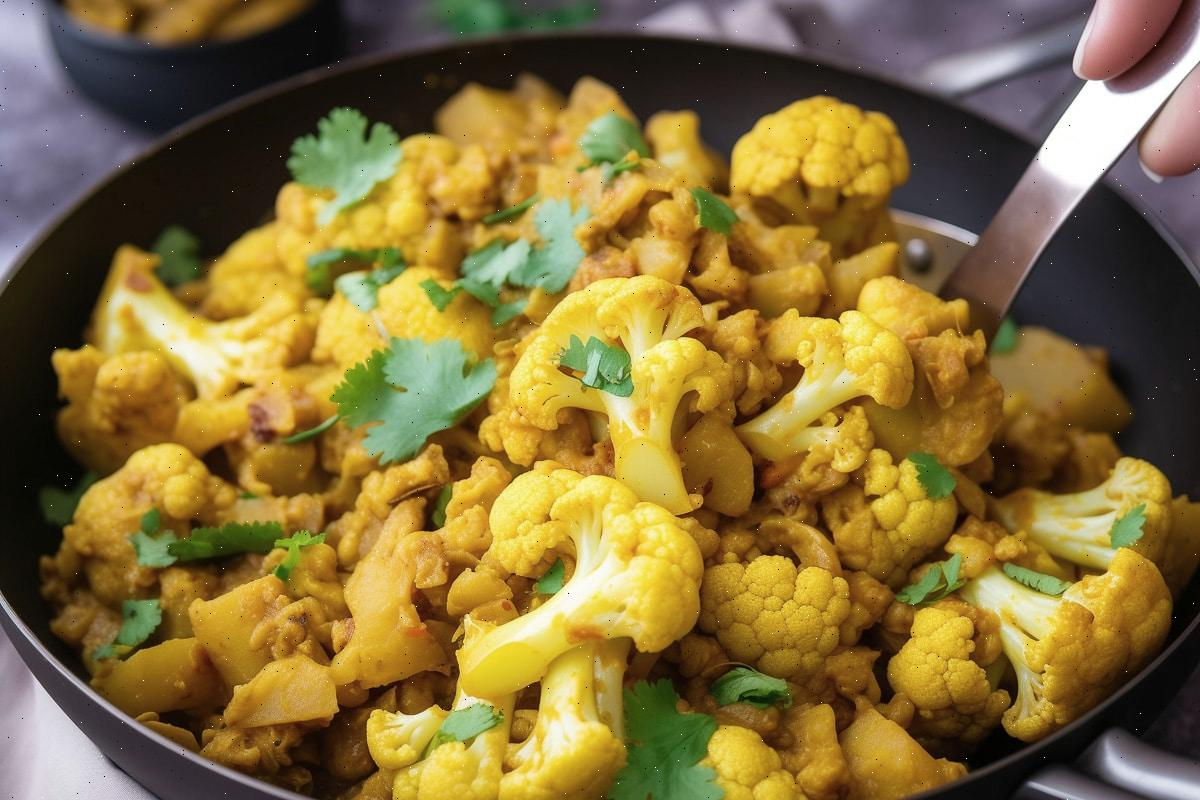aloo gobhi: (73, 49, 1180, 800)
